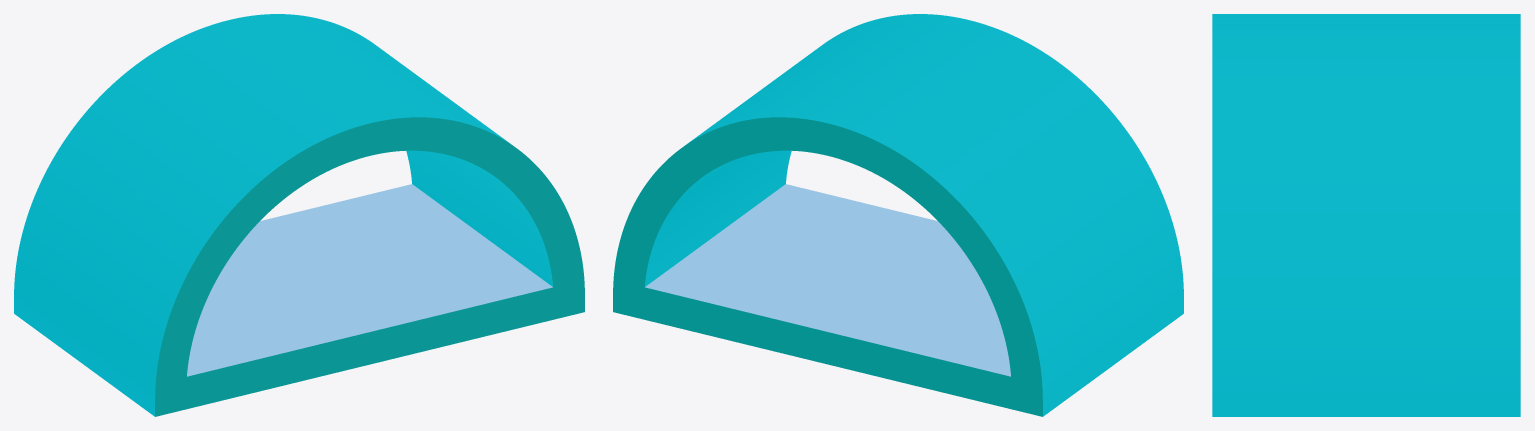
The model's file is dot3.glb.
3 views of the same model, side by side, from view 1: azimuth 30°, elevation 25°; view 2: azimuth 150°, elevation 25°; view 3: azimuth 270°, elevation 25° (orthographic). The views are drawn at different scales.
Parts seen in each view (by area): view 1: Asset 112; view 2: Asset 112; view 3: Asset 112.
Part boxes in pixels (box(x1,y1,x2,y2)): Asset 112: box(14, 14, 584, 416); Asset 112: box(613, 14, 1183, 416); Asset 112: box(1212, 14, 1520, 416).
Size of the model in its own units: 1.53 by 0.8205 by 0.8703.
